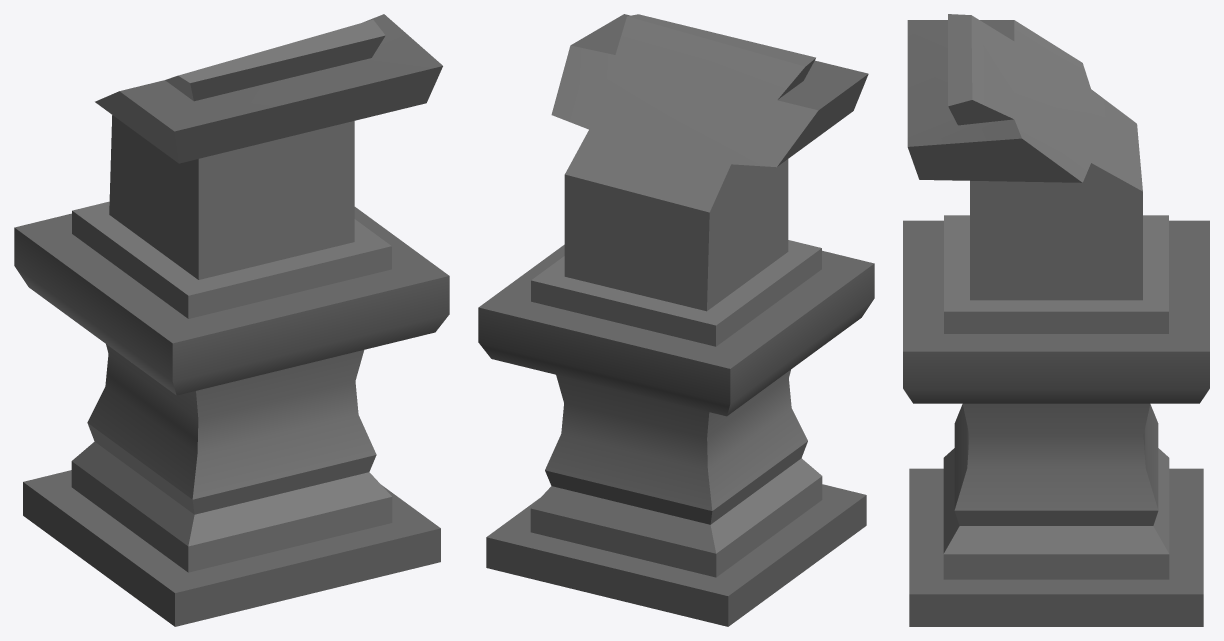
Rendered from lantern7.fbx.
The picture shows the model from 3 angles, left to right: view 1: azimuth 30°, elevation 25°; view 2: azimuth 150°, elevation 25°; view 3: azimuth 270°, elevation 25°; orthographic projection. The views are drawn at different scales.
Visible parts, largest first — view 1: lantern7; view 2: lantern7; view 3: lantern7.
Part boxes in pixels (x1,y1,x2,y2): lantern7: [14, 14, 449, 626]; lantern7: [478, 14, 874, 626]; lantern7: [903, 14, 1209, 626].
Bounding box in the file's own units: 109 × 198 × 108.
